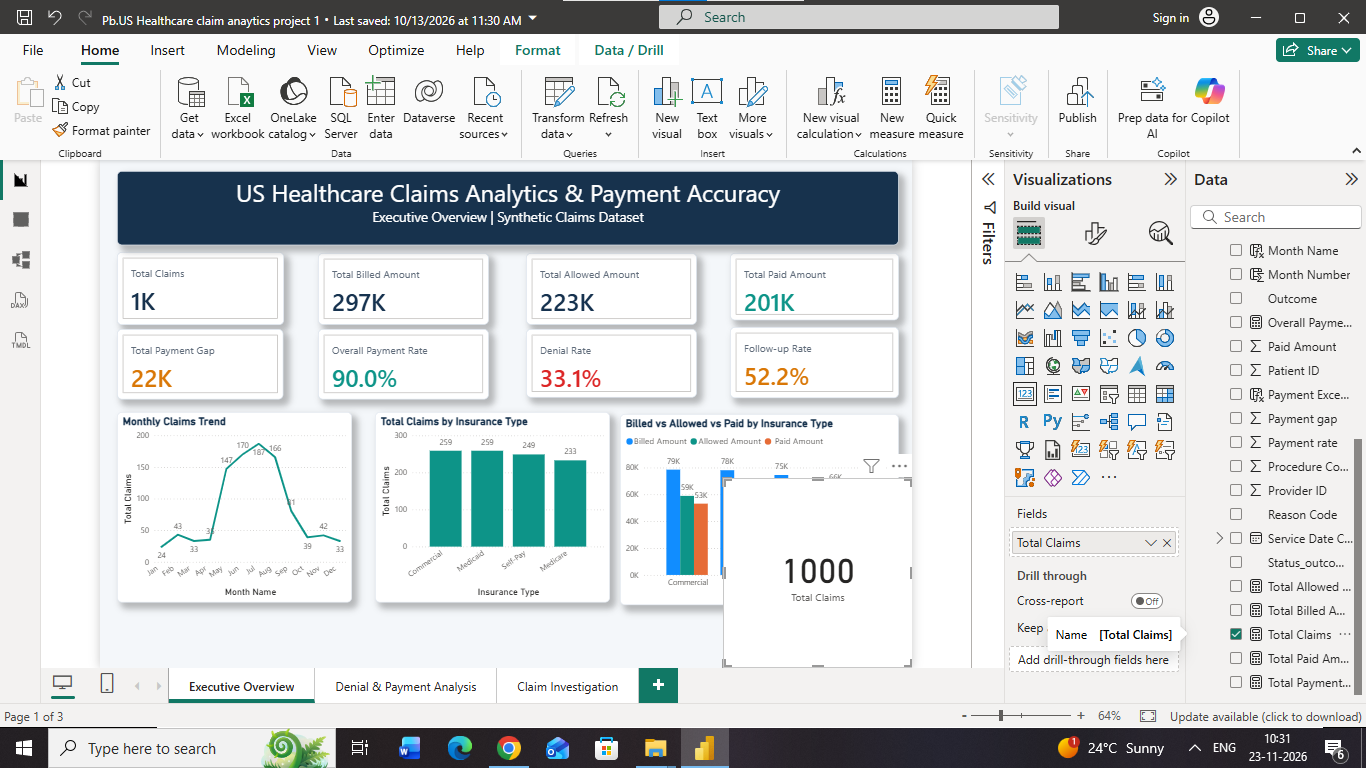

This screenshot's page, from the dashboard's own definition file:
{"tool":"powerbi","page":{"name":"Executive Overview","canvas":[1280,800],"ordinal":0},"visuals":[{"type":"cardVisual","fields":{"Data":["claim_data.Total Claims"]},"box":[26.8,144.9,263,115],"z":0},{"type":"cardVisual","fields":{"Data":["claim_data.Total Billed Amount","claim_data.Total Billed Amount"]},"box":[343,146,269.3,113.4],"z":1000},{"type":"cardVisual","fields":{"Data":["claim_data.Total Allowed Amount"]},"box":[670.4,146,269.3,113.4],"z":2000},{"type":"cardVisual","fields":{"Data":["claim_data.Total Paid Amount"]},"box":[992.1,146,266.5,106.3],"z":3000},{"type":"cardVisual","fields":{"Data":["claim_data.Total Payment Gap"]},"box":[27.4,266.4,262.1,110.9],"z":4000},{"type":"cardVisual","fields":{"Data":["claim_data.Overall Payment Rate"]},"box":[342.7,266.4,269.3,110.9],"z":5000},{"type":"cardVisual","fields":{"Data":["claim_data.Denial Rate"]},"box":[671,266.4,269.3,108],"z":6000},{"type":"cardVisual","fields":{"Data":["claim_data.Follow-up Rate"]},"box":[992.1,263,266.1,111.8],"z":7000},{"type":"textbox","box":[26.8,17.3,1231.5,116.5],"z":8000},{"type":"lineChart","title":"Monthly Claims Trend","fields":{"Y":["claim_data.Total Claims"],"Category":["claim_data.Month Name"]},"box":[26.9,396.9,370,300],"z":9000},{"type":"clusteredColumnChart","fields":{"Category":["claim_data.Insurance Type"],"Y":["claim_data.Total Claims"]},"box":[433.7,396.9,370,300],"z":10000},{"type":"clusteredColumnChart","title":" Billed vs Allowed vs Paid by Insurance Type","fields":{"Category":["claim_data.Insurance Type"],"Y":["Sum(claim_data.Billed Amount)","Sum(claim_data.Allowed Amount)","Sum(claim_data.Paid Amount)"]},"box":[818.9,400,439.4,300.8],"z":11000}]}

Visuals, with their boxes on the page's 1280x800 design canvas (x1, y1, x2, y2). These are canvas units, not pixel positions in the 1366x768 screenshot, which may show the page scaled, cropped or inside an application window:
cardVisual - claim_data.Total Claims: 27 145 290 260
cardVisual - claim_data.Total Billed Amount x claim_data.Total Billed Amount: 343 146 612 259
cardVisual - claim_data.Total Allowed Amount: 670 146 940 259
cardVisual - claim_data.Total Paid Amount: 992 146 1259 252
cardVisual - claim_data.Total Payment Gap: 27 266 290 377
cardVisual - claim_data.Overall Payment Rate: 343 266 612 377
cardVisual - claim_data.Denial Rate: 671 266 940 374
cardVisual - claim_data.Follow-up Rate: 992 263 1258 375
textbox: 27 17 1258 134
"Monthly Claims Trend" lineChart: 27 397 397 697
clusteredColumnChart - claim_data.Insurance Type x claim_data.Total Claims: 434 397 804 697
" Billed vs Allowed vs Paid by Insurance Type" clusteredColumnChart: 819 400 1258 701
